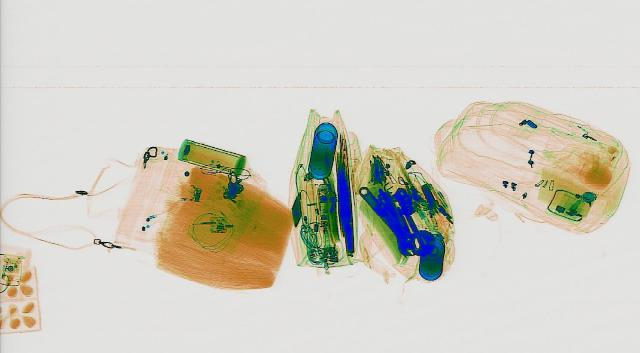Wrench: (352, 184, 418, 255)
